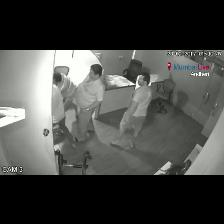person: (111, 73, 152, 148), (74, 64, 104, 141), (52, 85, 75, 147), (54, 73, 76, 111)
